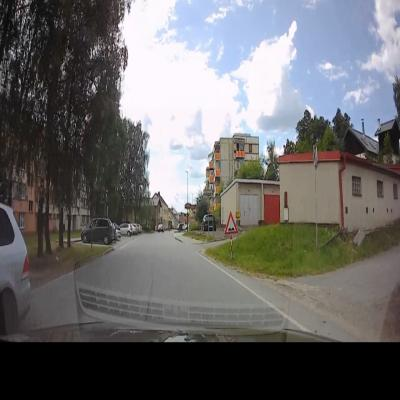clear-road: (76, 233, 400, 341)
